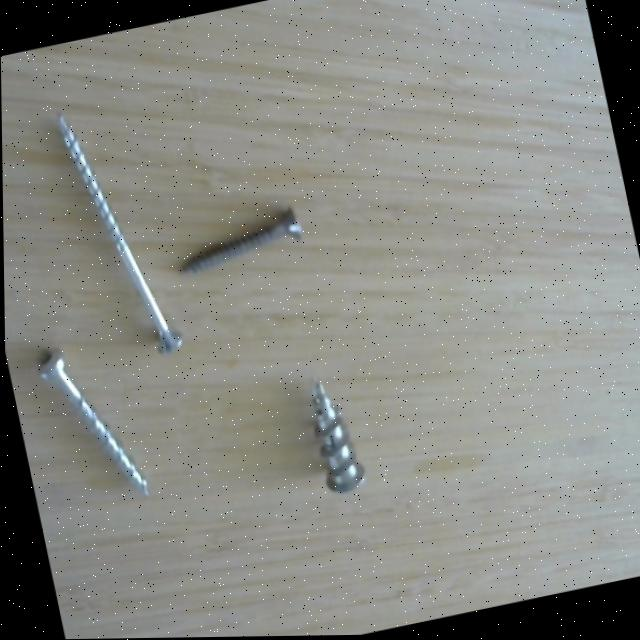Black screw: (169, 197, 311, 288)
Long screw: (49, 90, 191, 373)
Medium screw: (27, 324, 160, 518)
Short screw: (289, 361, 372, 504)
